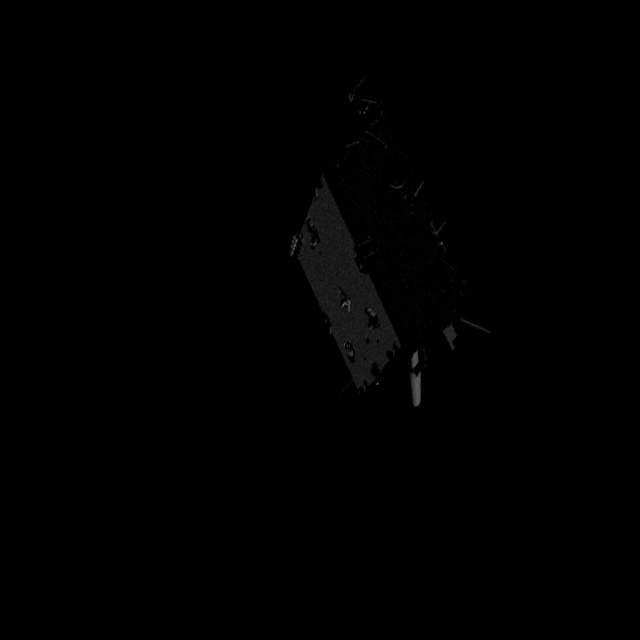medium_debris: (256, 14, 545, 427)
